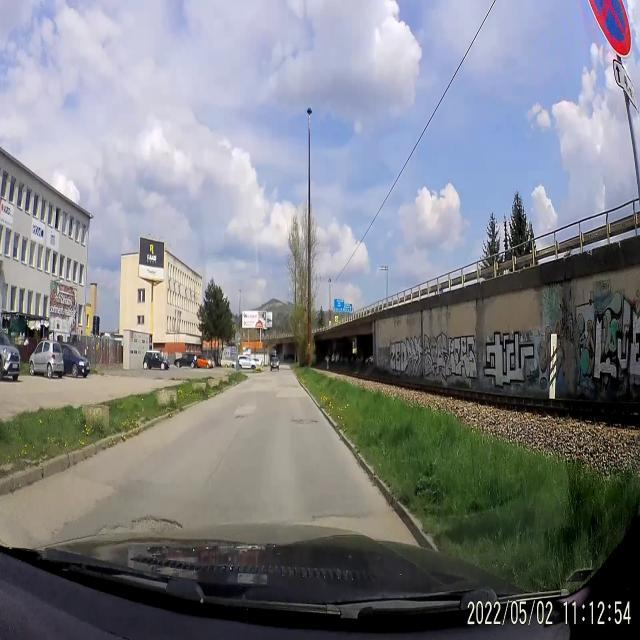Pothole: (122, 504, 192, 540), (96, 516, 126, 537), (290, 415, 320, 427), (230, 410, 252, 420)
